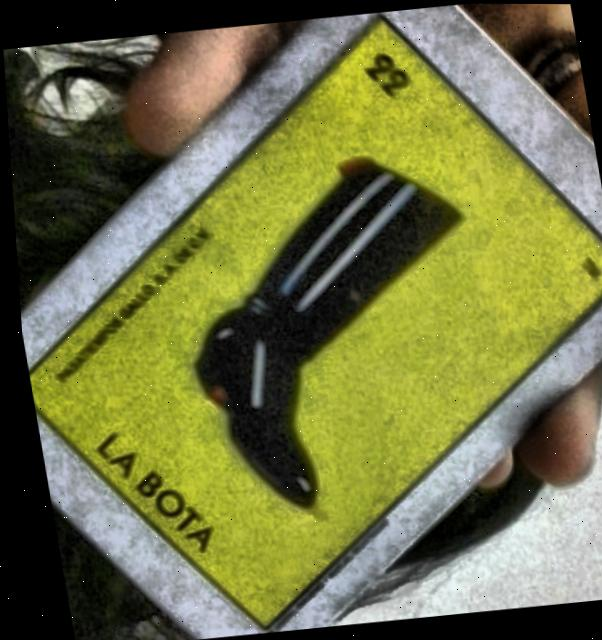La Bota: (25, 13, 602, 624)
